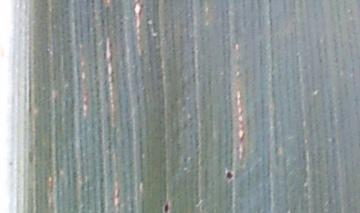tarspot: (224, 169, 234, 180), (163, 203, 168, 213)
